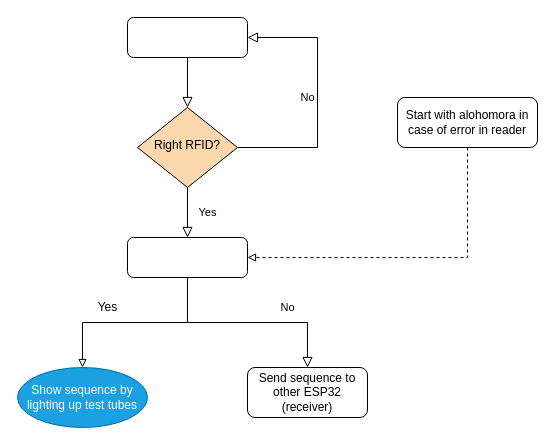
Some shapes in this 555 by 445 pixel diagram are drawn without their labels. The shapes that lost their labels are listed below. From the top down, each one's centre as x and y in pixels, then its label:
At (x=187, y=37): "RFID scanned".
At (x=187, y=257): "Create sequence of 7 colors".
